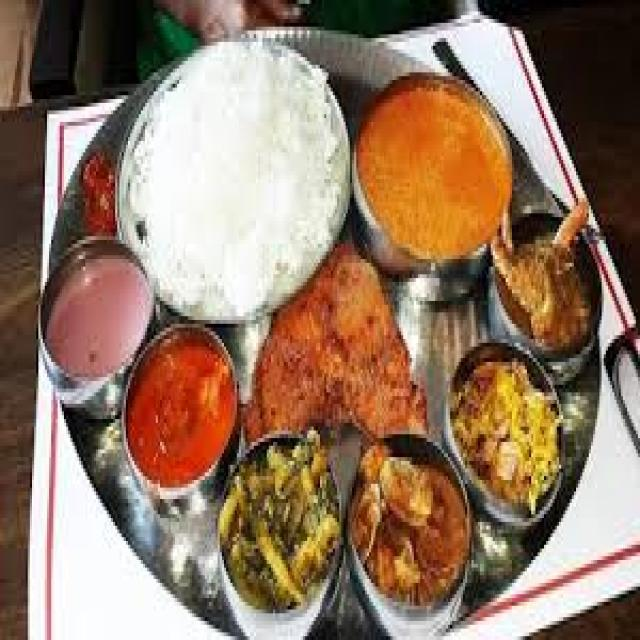rice: (131, 26, 345, 331)
sambar-rasam: (117, 314, 244, 502)
veg: (342, 58, 520, 284)
veg-fry: (351, 425, 477, 632)
